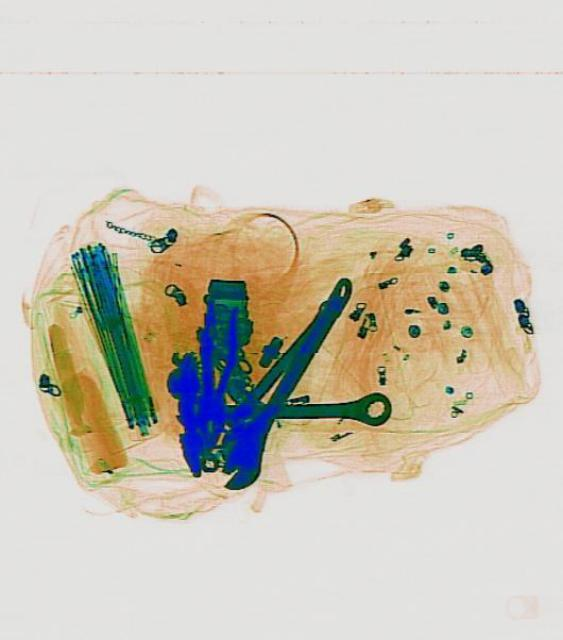Pliers: (188, 302, 242, 451)
Wrench: (198, 262, 369, 503)
